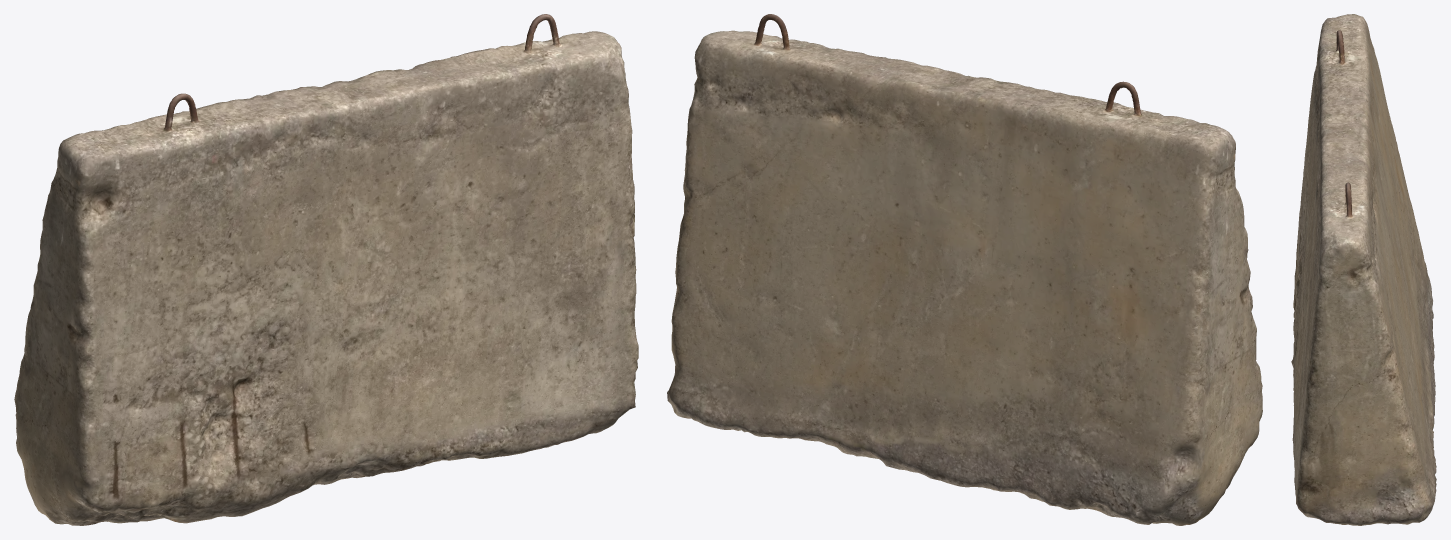
Rendered from concrete_road_barrier_02.glb.
3 views of the same model, side by side, from view 1: azimuth 30°, elevation 25°; view 2: azimuth 150°, elevation 25°; view 3: azimuth 270°, elevation 25° (orthographic). The views are drawn at different scales.
Parts seen in each view (by area): view 1: concrete_road_barrier_02; view 2: concrete_road_barrier_02; view 3: concrete_road_barrier_02.
Boxes of the visible parts, x1,y1,x2,y2 form: concrete_road_barrier_02: (14,14,638,525); concrete_road_barrier_02: (667,14,1262,525); concrete_road_barrier_02: (1291,14,1436,525).
Size of the model in its own units: 1.57 by 1.11 by 0.4422.
Materials: 1 (1 with a texture image).
